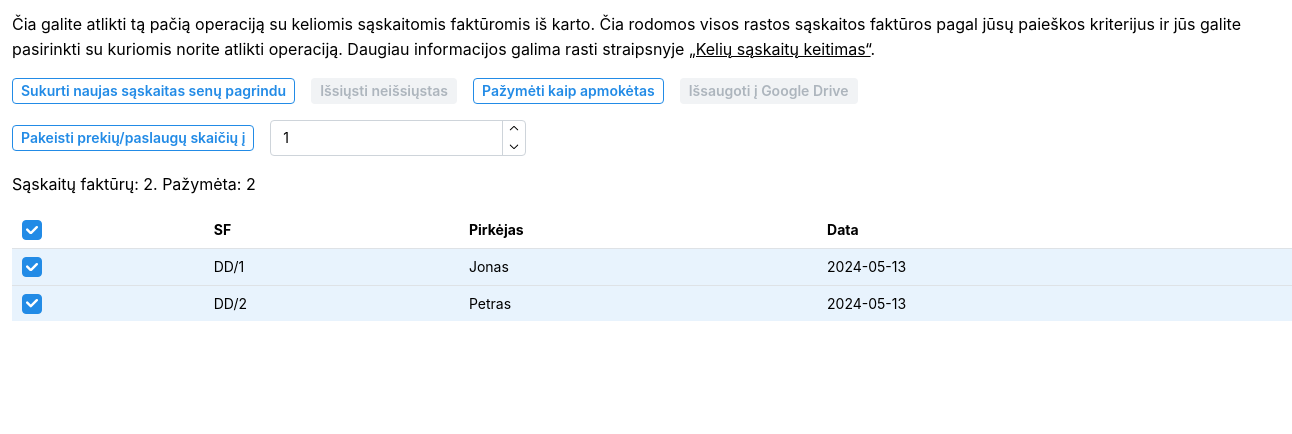
Scenario: mark selected is paid (not all)
Step 1. Click the checkbox with test id "invoice-check-1" → (32, 267), box [22, 257, 42, 277]
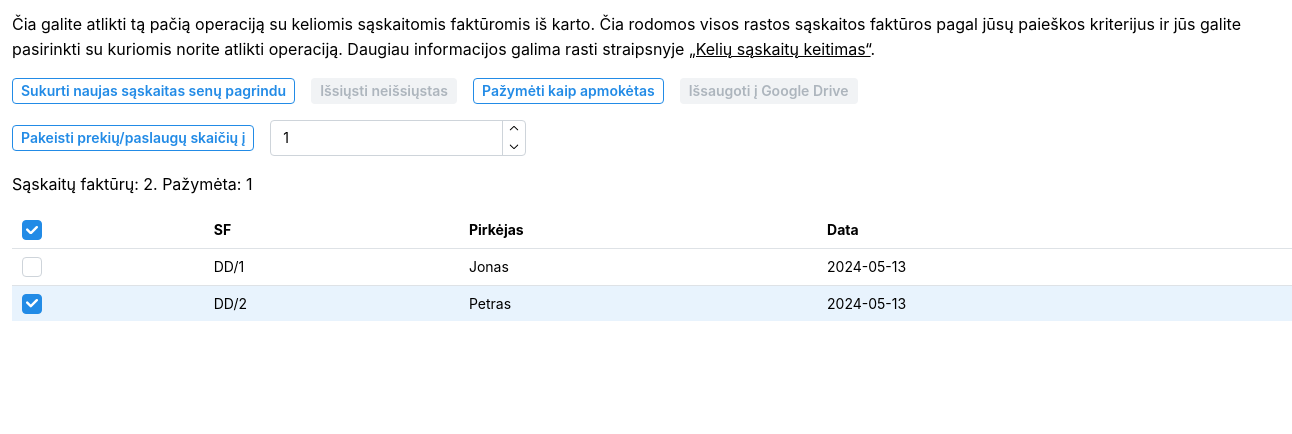
Step 2. Click the button labelled "Pažymėti kaip apmokėtas" → (568, 91), box [473, 78, 664, 104]
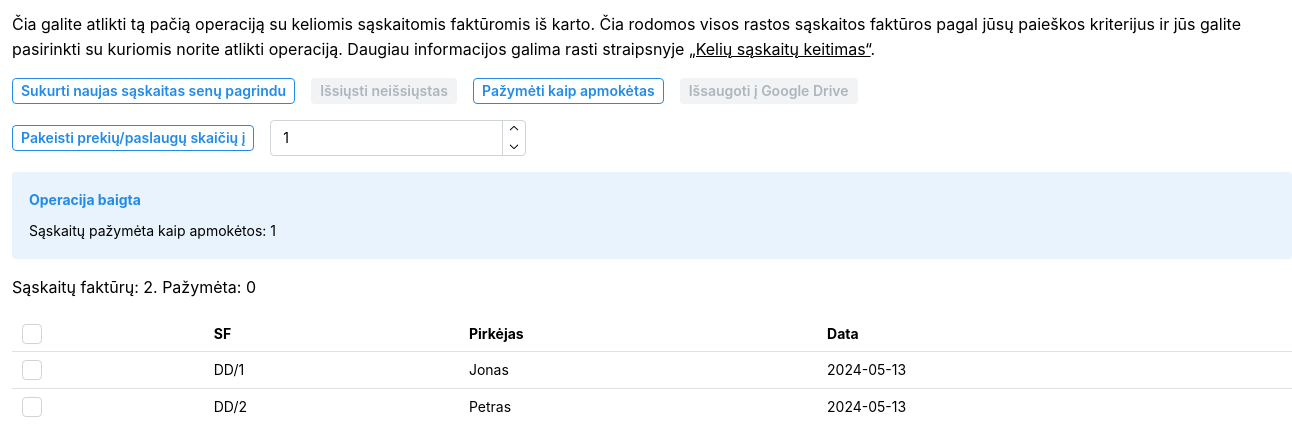
Check: the message with test id "operation-result" shows "Sąskaitų pažymėta kaip apmokėtos: 1", box [29, 222, 276, 239]
